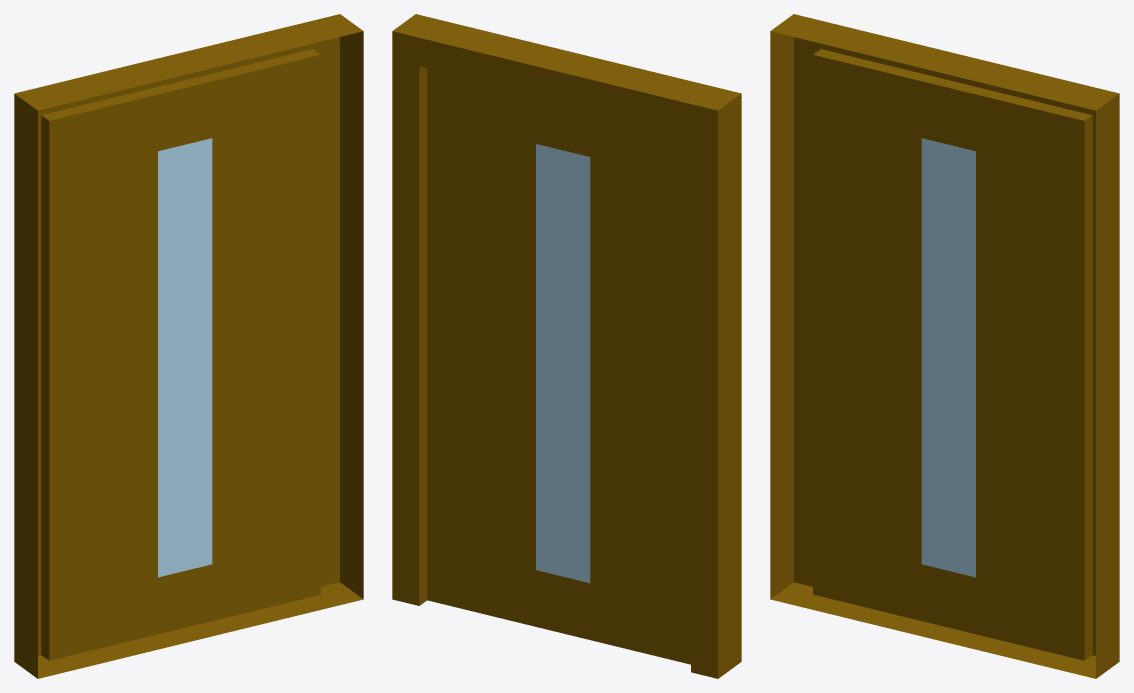
File: SlimWindowDoor.fbx
3 renders of one model, left to right at view 1: azimuth 30°, elevation 25°; view 2: azimuth 150°, elevation 25°; view 3: azimuth 330°, elevation 25°, orthographic.
Parts seen in each view (by area): view 1: SlimWindowDoor_LOD0; view 2: SlimWindowDoor_LOD0; view 3: SlimWindowDoor_LOD0.
Part boxes in pixels (bbox=[...]): SlimWindowDoor_LOD0: bbox=[14, 14, 363, 678]; SlimWindowDoor_LOD0: bbox=[392, 14, 741, 678]; SlimWindowDoor_LOD0: bbox=[770, 14, 1119, 678].
Size of what is drawn, in the model's own units: 240 by 400 by 30.
